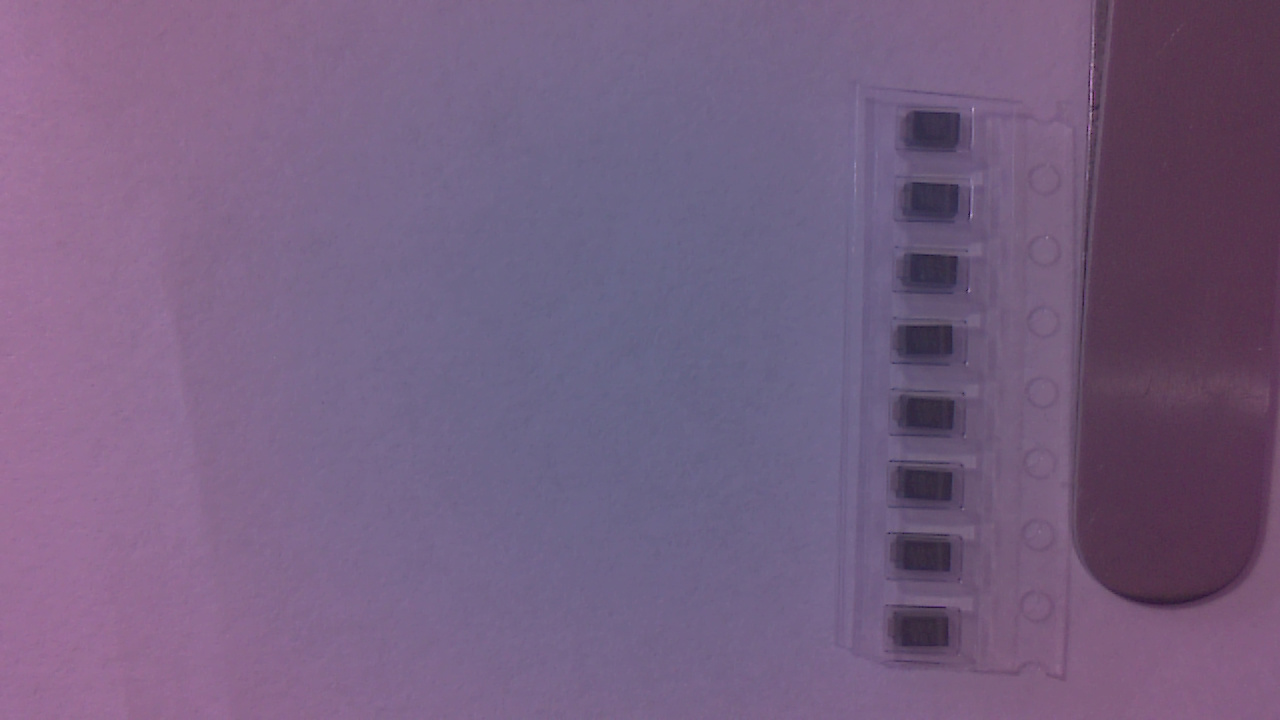Diode: (901, 112, 973, 155), (895, 467, 965, 510), (891, 613, 962, 655), (900, 255, 969, 295), (896, 327, 963, 368), (894, 540, 964, 578), (899, 398, 967, 437), (902, 184, 971, 222)
